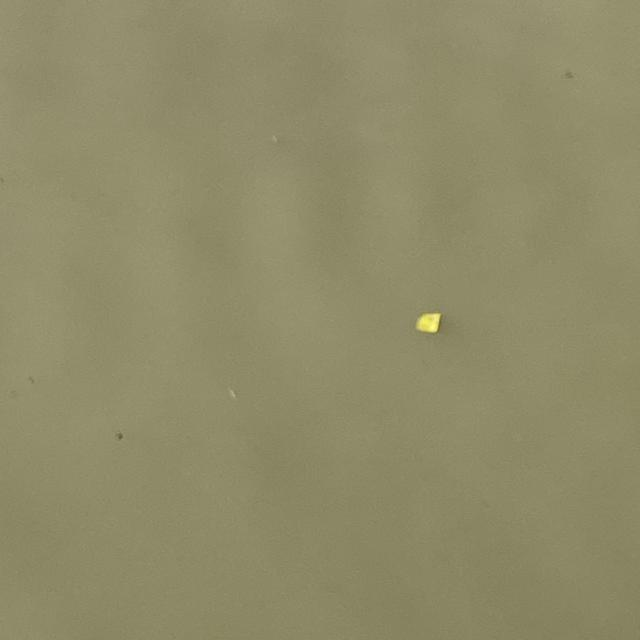Organic Debris: (103, 426, 133, 442)
Plastic: (412, 308, 456, 340)
